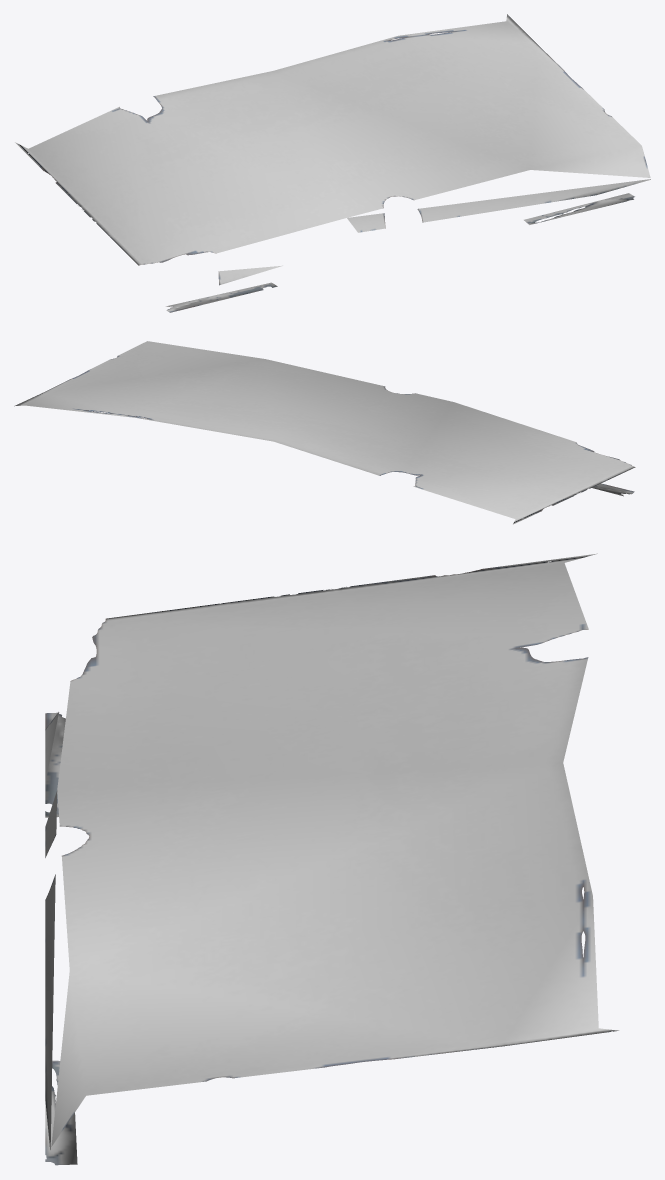
The model's file is SM_AbandonedCar_Trunk.fbx.
3 views of the same model, one above another, from view 1: azimuth 30°, elevation 25°; view 2: azimuth 150°, elevation 25°; view 3: azimuth 270°, elevation 25° (orthographic). The views are drawn at different scales.
Visible parts, largest first — view 1: SM_AbandonedCar_Trunk; view 2: SM_AbandonedCar_Trunk; view 3: SM_AbandonedCar_Trunk.
Part boxes in pixels (x1,y1,x2,y2): SM_AbandonedCar_Trunk: (15, 14, 650, 312); SM_AbandonedCar_Trunk: (14, 341, 635, 524); SM_AbandonedCar_Trunk: (45, 553, 618, 1165).
Size of the model in its own units: 128 by 21.91 by 64.55.
Materials: 1 (1 with a texture image).
